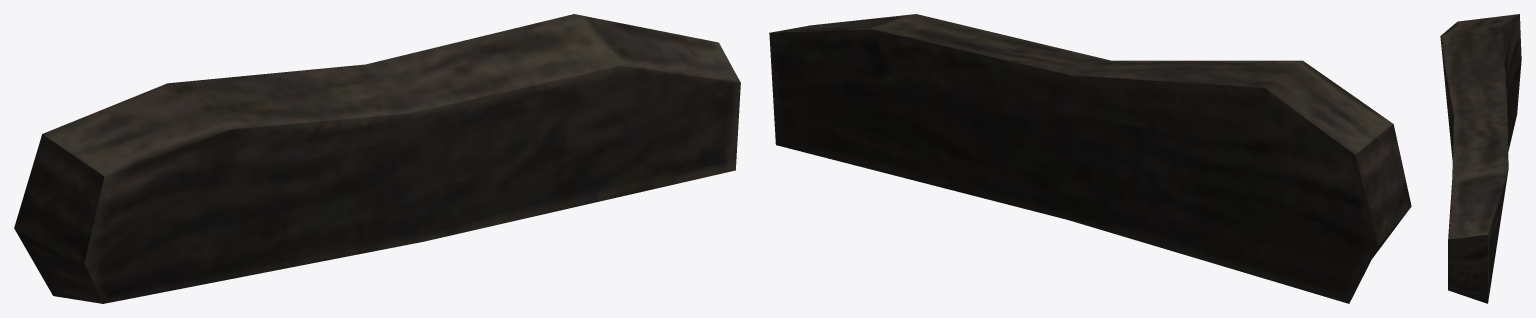
File: dwarven_beam_01.fbx
3 renders of one model, left to right at view 1: azimuth 30°, elevation 25°; view 2: azimuth 150°, elevation 25°; view 3: azimuth 270°, elevation 25°, orthographic. The views are drawn at different scales.
Parts seen in each view (by area): view 1: dwarven_beam01; view 2: dwarven_beam01; view 3: dwarven_beam01.
Boxes of the visible parts, left/top/right/bottom form: dwarven_beam01: left=14, top=14, right=740, bottom=303; dwarven_beam01: left=769, top=14, right=1411, bottom=303; dwarven_beam01: left=1440, top=14, right=1521, bottom=303.
Size of the model in its own units: 1.65 by 0.4639 by 0.283.
